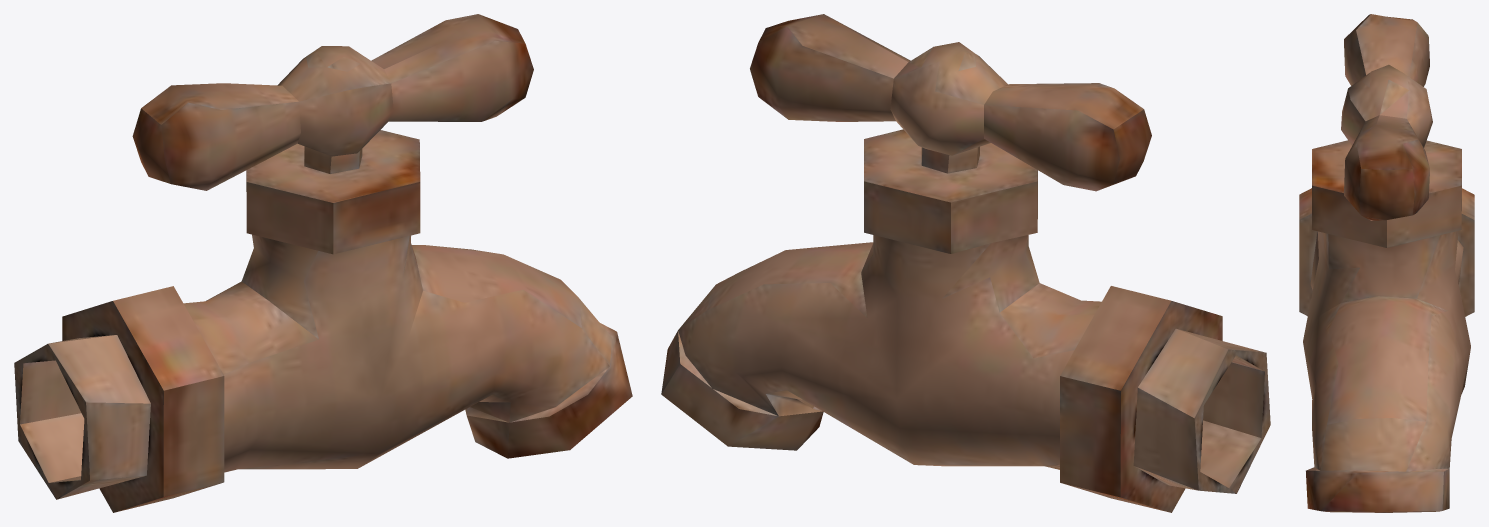
Rendered from small_copper_pipe_24.glb.
3 views of the same model, side by side, from view 1: azimuth 30°, elevation 25°; view 2: azimuth 150°, elevation 25°; view 3: azimuth 270°, elevation 25° (orthographic). The views are drawn at different scales.
Visible parts, largest first — view 1: small_copper_pipe_24; view 2: small_copper_pipe_24; view 3: small_copper_pipe_24.
Boxes of the visible parts, left/top/right/bottom form: small_copper_pipe_24: left=14, top=14, right=632, bottom=512; small_copper_pipe_24: left=661, top=14, right=1270, bottom=512; small_copper_pipe_24: left=1299, top=14, right=1474, bottom=512.
Size of what is drawn, in the model's own units: 0.0731 by 0.0534 by 0.0227.
Materials: 1 (1 with a texture image).
